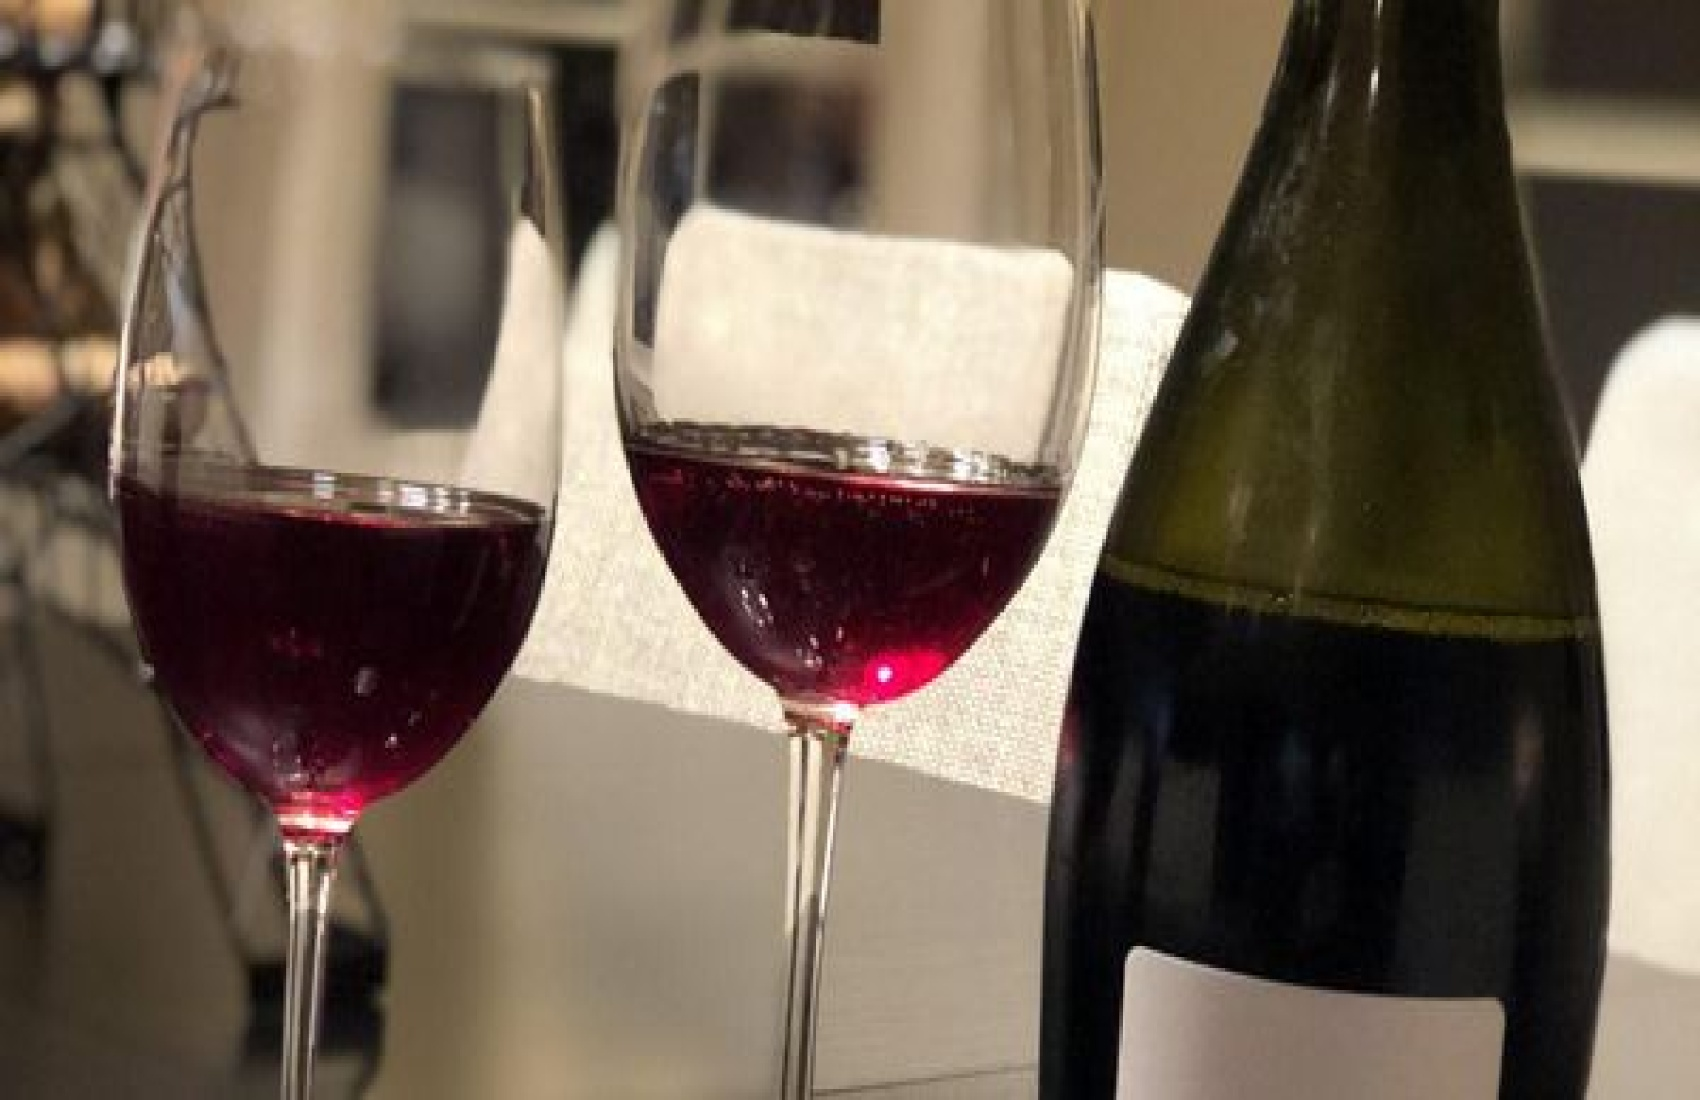wine: (1049, 90, 1593, 1100)
